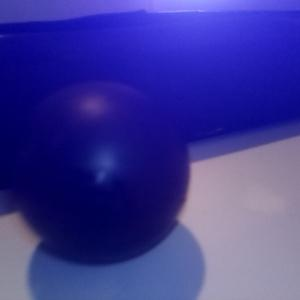dead_ball: (9, 82, 189, 262)
